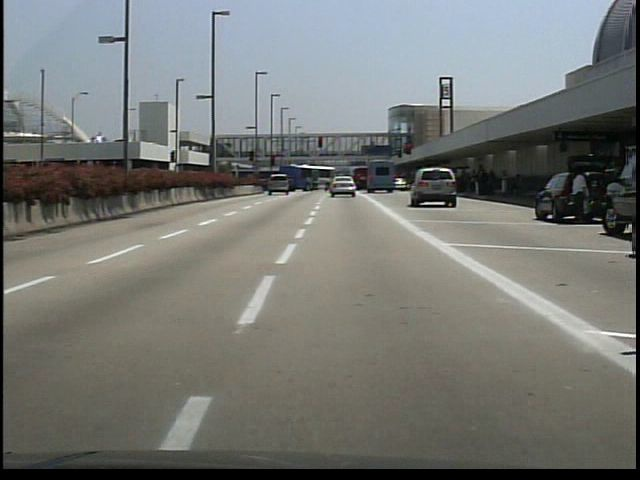person: (569, 169, 592, 226)
